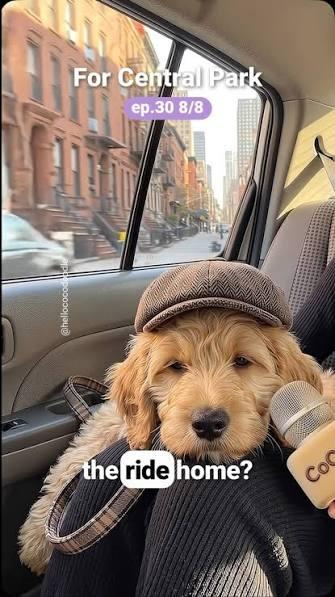puppy-dog: (17, 310, 329, 580)
